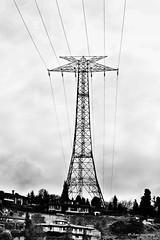power_tower: (40, 51, 124, 218)
